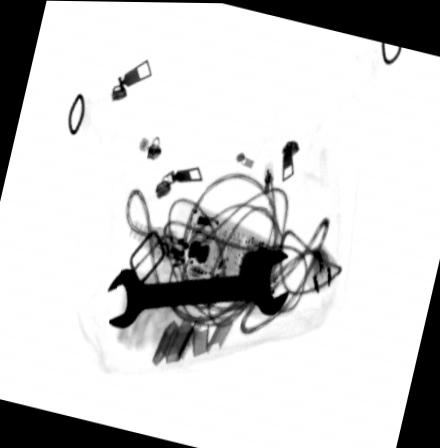Wrench: (103, 243, 294, 329)
